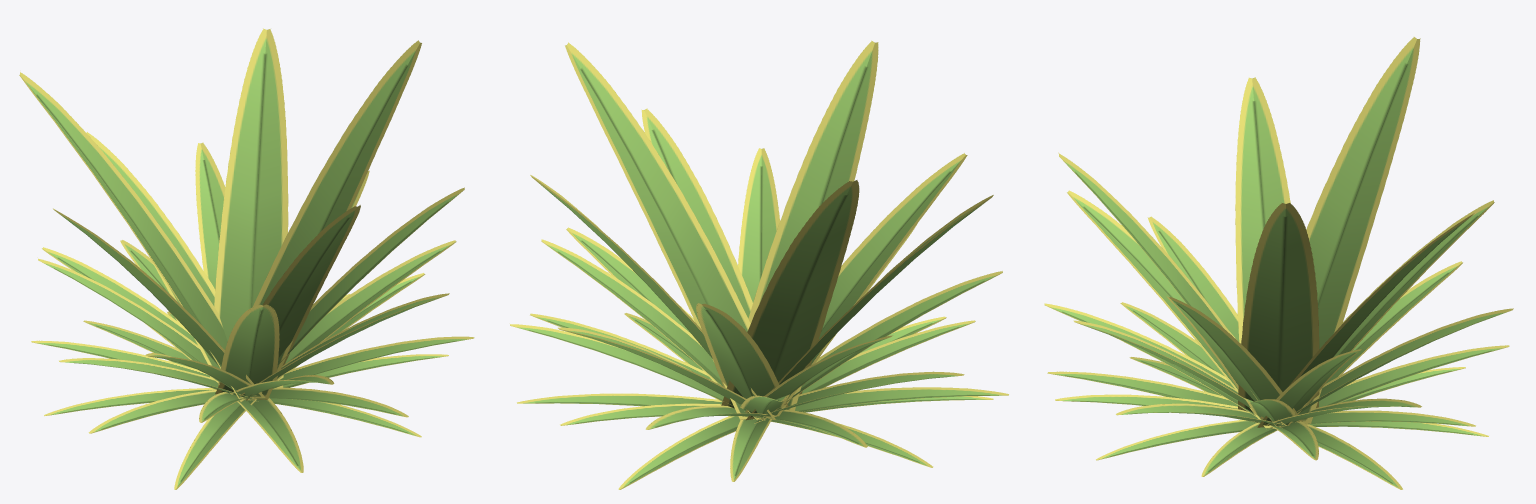
Rendered from furcraea-foetida.glb.
3 views of the same model, side by side, from view 1: azimuth 30°, elevation 25°; view 2: azimuth 150°, elevation 25°; view 3: azimuth 270°, elevation 25° (orthographic). The views are drawn at different scales.
Visible parts, largest first — view 1: folhas; view 2: folhas; view 3: folhas.
Boxes of the visible parts, x1=… form: folhas: x1=19, y1=28, x2=474, y2=489; folhas: x1=510, y1=40, x2=1008, y2=489; folhas: x1=1044, y1=37, x2=1513, y2=489.
Bounding box in the file's own units: 1.96 × 1.5 × 2.
Materials: 1 (1 with a texture image).
